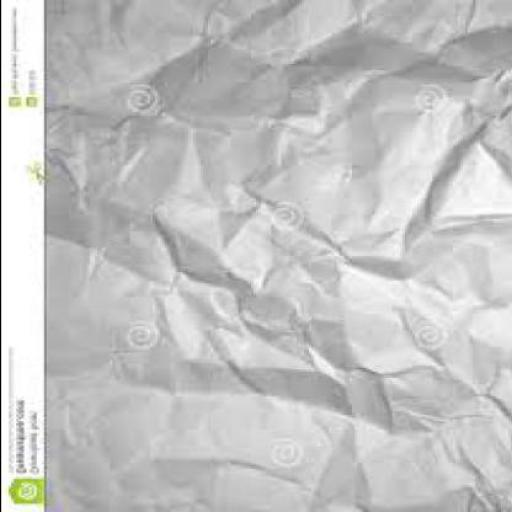paper: (46, 1, 510, 512)
